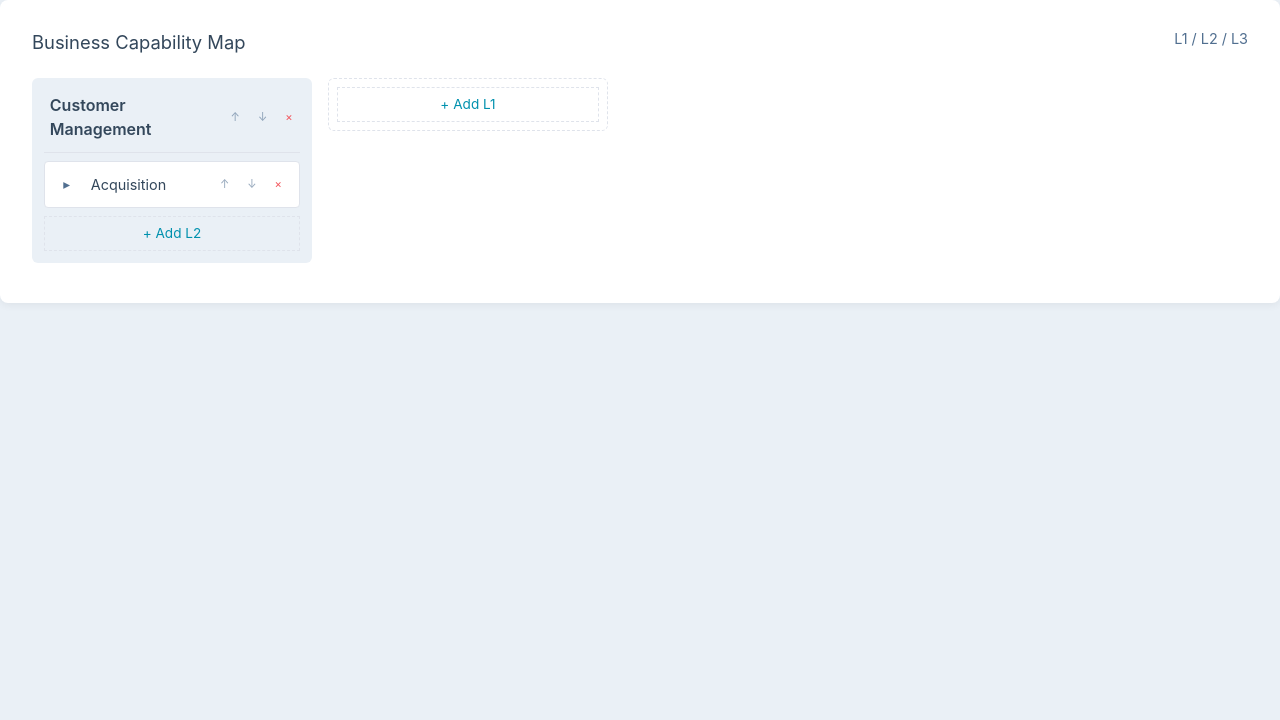
Scenario: KanbanBoard › deletes an L1 through the confirm dialog
Check: the button "Customer Management" is shown, box [50,95,152,139]
What coordinates should you click on to do the following:
click the button named "delete l1"
I would click on:
 (289, 117)
Its box is [278,106,300,128].
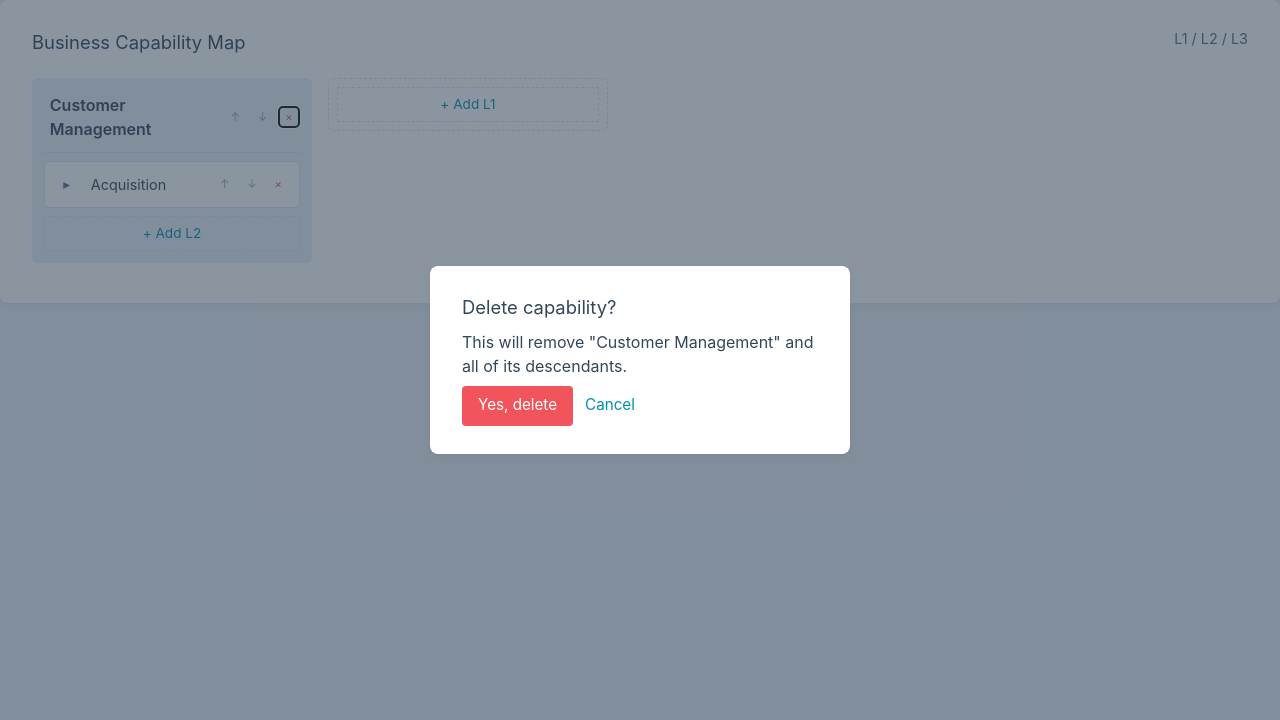
What coordinates should you click on to do the following:
click the button "Yes, delete"
I would click on:
 (518, 406)
Its box is [462,386,573,426].
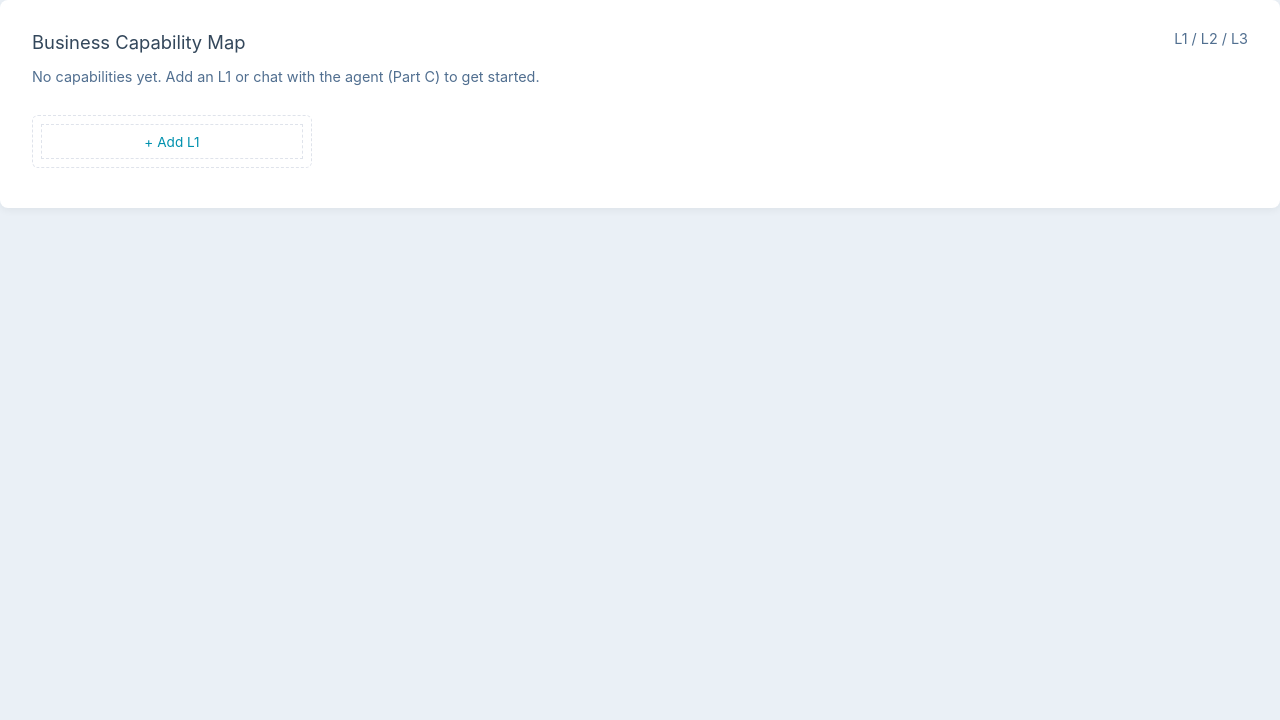
Check: the button "Customer Management" is gone
